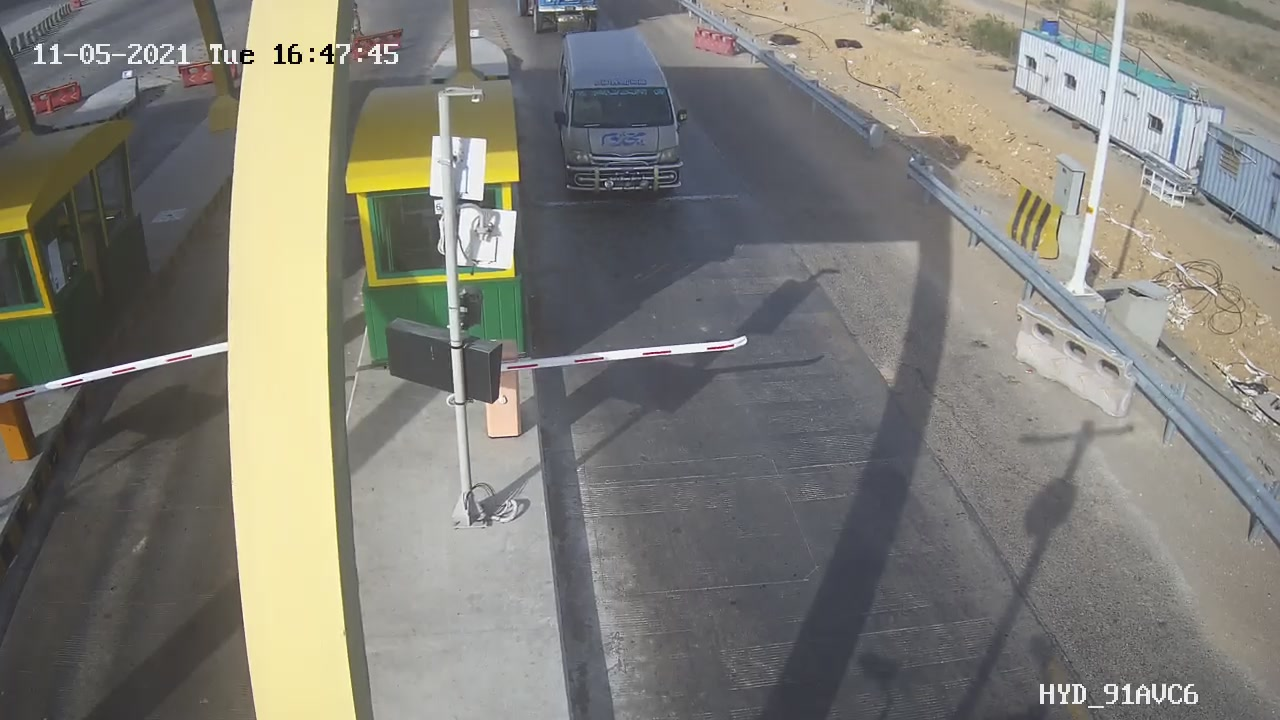F2: (539, 21, 716, 209)
